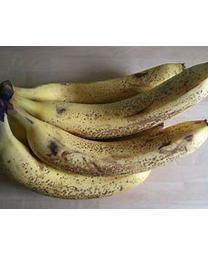banana: (0, 62, 207, 200)
